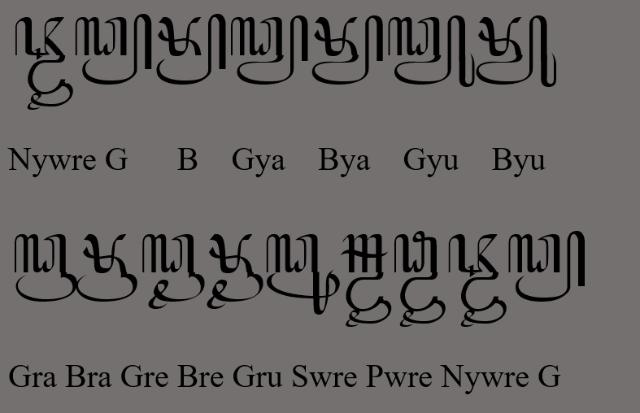-B: (156, 12, 226, 86)
-G: (74, 13, 154, 87), (507, 230, 585, 302)
Br: (76, 232, 138, 302)
Bre: (206, 234, 264, 310)
By: (312, 15, 384, 86)
Byu: (475, 15, 557, 87)
Gr: (14, 234, 76, 304)
Gre: (142, 232, 206, 310)
Gru: (266, 234, 340, 316)
Gy: (230, 14, 310, 86)
Gyu: (388, 14, 476, 88)
Nywre: (448, 234, 508, 328), (15, 16, 74, 110)
Pwre: (394, 230, 446, 328)
Swre: (341, 234, 392, 328)
